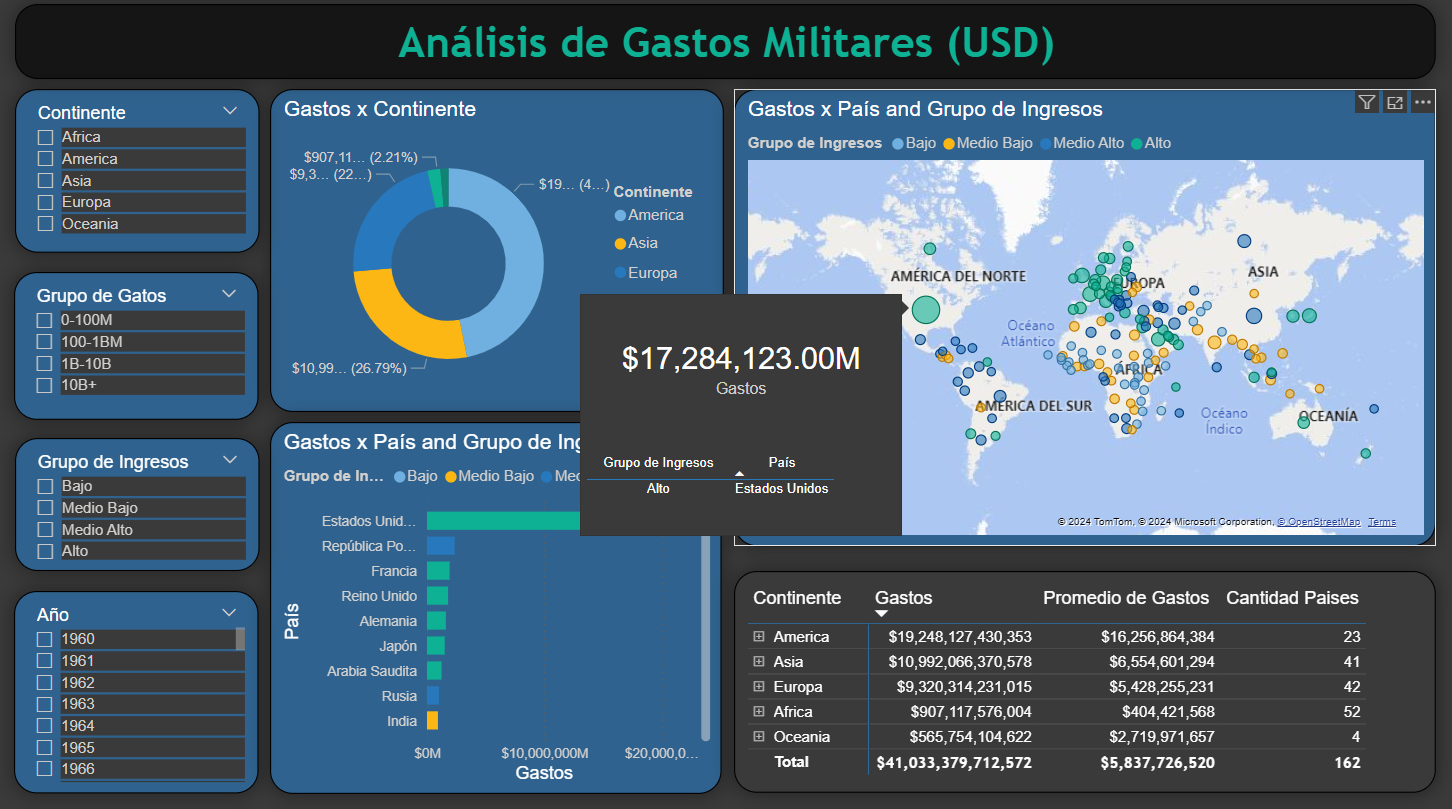

The dashboard page shown, as its layout file describes it:
{"tool":"powerbi","page":{"name":"Informe","canvas":[1280,720],"ordinal":0},"visuals":[{"type":"donutChart","title":"Gastos x Continente","fields":{"Y":["Sum(Military Expenditure.Gastos)"],"Category":["Military Expenditure.Continente"]},"box":[241.1,83.3,398.9,284.1],"z":0},{"type":"slicer","fields":{"Values":["Military Expenditure.Año"]},"box":[16.1,525.2,214.8,178],"z":1000},{"type":"map","title":"Gastos x País and Grupo de Ingresos","fields":{"Category":["Military Expenditure.País"],"Size":["Sum(Military Expenditure.Gastos)"],"Series":["GI Orden.Grupo de Ingresos"]},"box":[648.8,83.3,617.2,402.4],"z":2000},{"type":"barChart","title":"Gastos x País and Grupo de Ingresos","fields":{"Category":["Military Expenditure.País"],"Y":["Sum(Military Expenditure.Gastos)"],"Series":["GI Orden.Grupo de Ingresos"]},"box":[241.1,376.1,397.2,327],"z":3000},{"type":"pivotTable","fields":{"Rows":["Military Expenditure.Continente","Military Expenditure.País"],"Values":["Sum(Military Expenditure.Gastos)","Divide(Sum(Military Expenditure.Gastos), ScopedEval(Sum(Military Expenditure.Gastos), []))","Count(Military Expenditure.País)"]},"box":[649,507.6,616.9,195.3],"z":4000},{"type":"slicer","fields":{"Values":["Military Expenditure.Continente"]},"box":[16.4,83.3,214.8,143.8],"z":5000},{"type":"slicer","fields":{"Values":["Military Expenditure.Grupo de Gatos"]},"box":[15.8,244,214.8,129.8],"z":6000},{"type":"slicer","fields":{"Values":["GI Orden.Grupo de Ingresos"]},"box":[16.7,390.7,214.8,117.5],"z":7000},{"type":"textbox","box":[16.5,8.8,1249.2,66],"z":9000}]}

Visuals, with their boxes in screenshot pixels (x1, y1, x2, y2), scaled from the page's 1280x720 canvas onto the 1452x809 screenshot:
"Gastos x Continente" donutChart: (x1=273, y1=94, x2=726, y2=413)
slicer - Military Expenditure.Año: (x1=18, y1=590, x2=262, y2=790)
"Gastos x País and Grupo de Ingresos" map: (x1=736, y1=94, x2=1436, y2=546)
"Gastos x País and Grupo de Ingresos" barChart: (x1=273, y1=423, x2=724, y2=790)
pivotTable - Military Expenditure.Continente x Military Expenditure.País: (x1=736, y1=570, x2=1436, y2=790)
slicer - Military Expenditure.Continente: (x1=19, y1=94, x2=262, y2=255)
slicer - Military Expenditure.Grupo de Gatos: (x1=18, y1=274, x2=262, y2=420)
slicer - GI Orden.Grupo de Ingresos: (x1=19, y1=439, x2=263, y2=571)
textbox: (x1=19, y1=10, x2=1436, y2=84)
